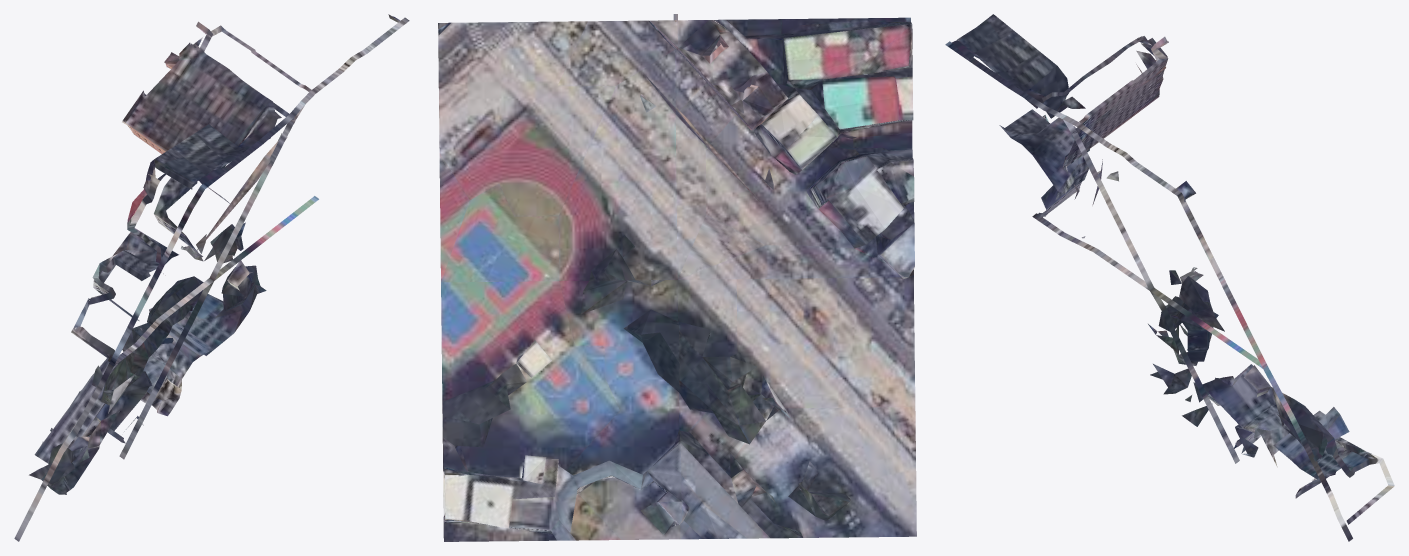
3 renders of one model, left to right at view 1: azimuth 30°, elevation 25°; view 2: azimuth 150°, elevation 25°; view 3: azimuth 270°, elevation 25°, orthographic. The views are drawn at different scales.
Size of the model in its own units: 153 by 158 by 144.
Materials: 2 (2 with a texture image).
